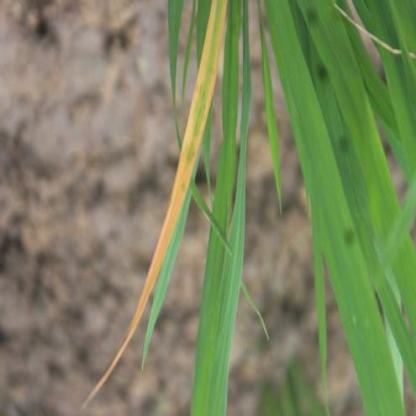Tungro: (90, 1, 228, 402)
